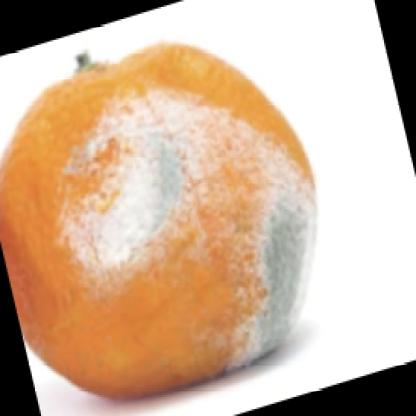rotten: (2, 44, 318, 402)
